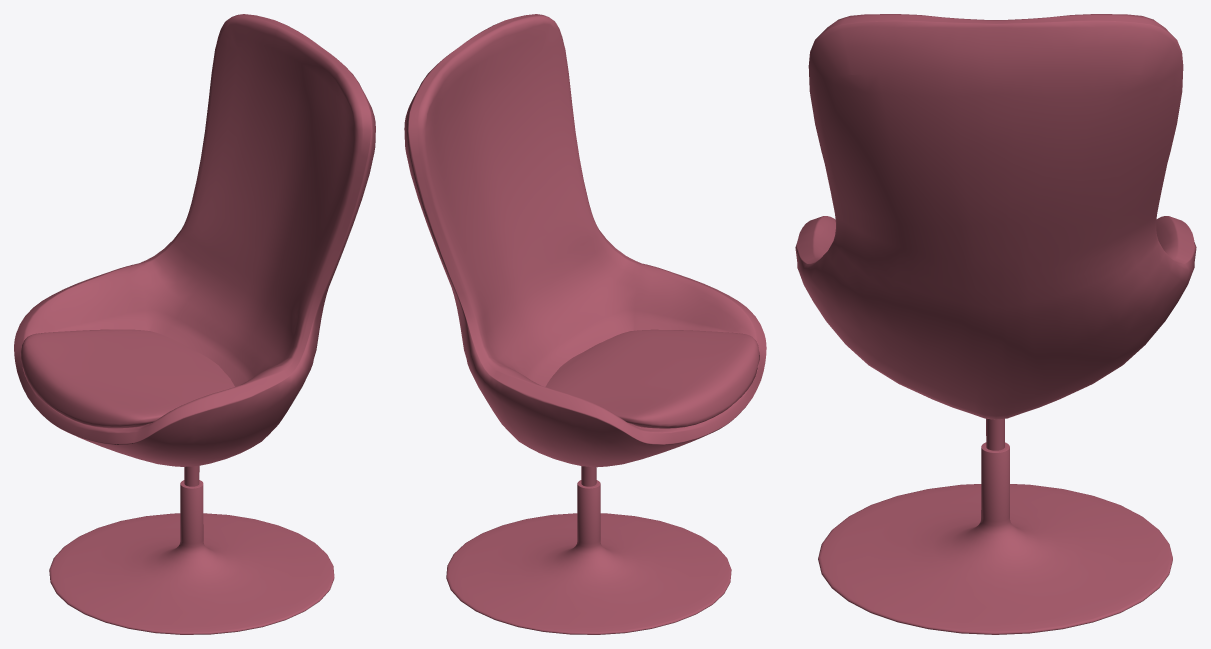
The model's file is Chair_02.fbx.
The picture shows the model from 3 angles, left to right: view 1: azimuth 30°, elevation 25°; view 2: azimuth 150°, elevation 25°; view 3: azimuth 270°, elevation 25°; orthographic projection. The views are drawn at different scales.
Visible parts, largest first — view 1: seat_low; view 2: seat_low; view 3: seat_low.
Part boxes in pixels (box(x1,y1,x2,y2)): seat_low: box(14, 14, 375, 634); seat_low: box(404, 14, 766, 634); seat_low: box(795, 14, 1196, 634).
Bounding box in the file's own units: 62.41 × 105 × 62.04.
